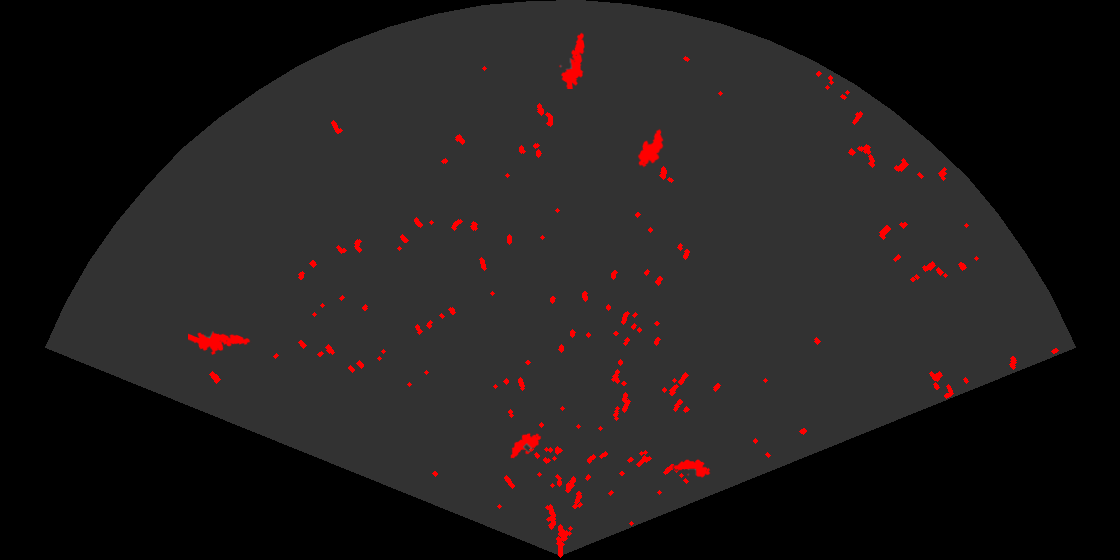AUV: (636, 127, 665, 169), (509, 431, 543, 460), (672, 458, 712, 479)
frogman: (188, 330, 252, 357), (557, 30, 586, 89)
